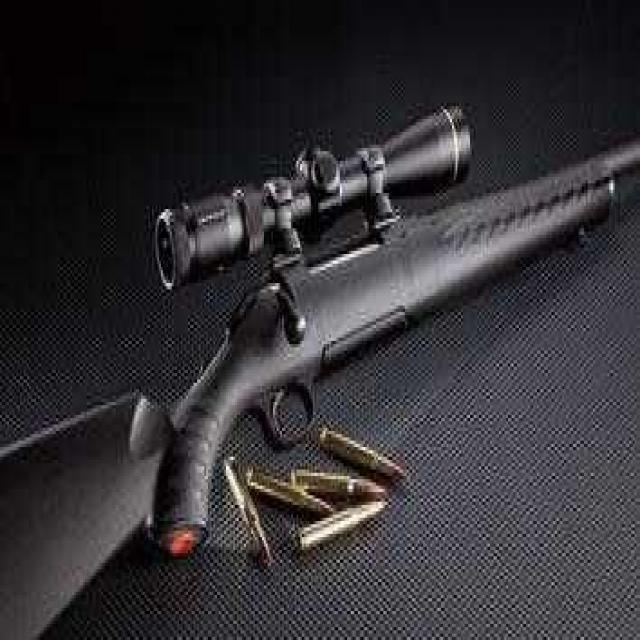weapon: (0, 71, 633, 637)
